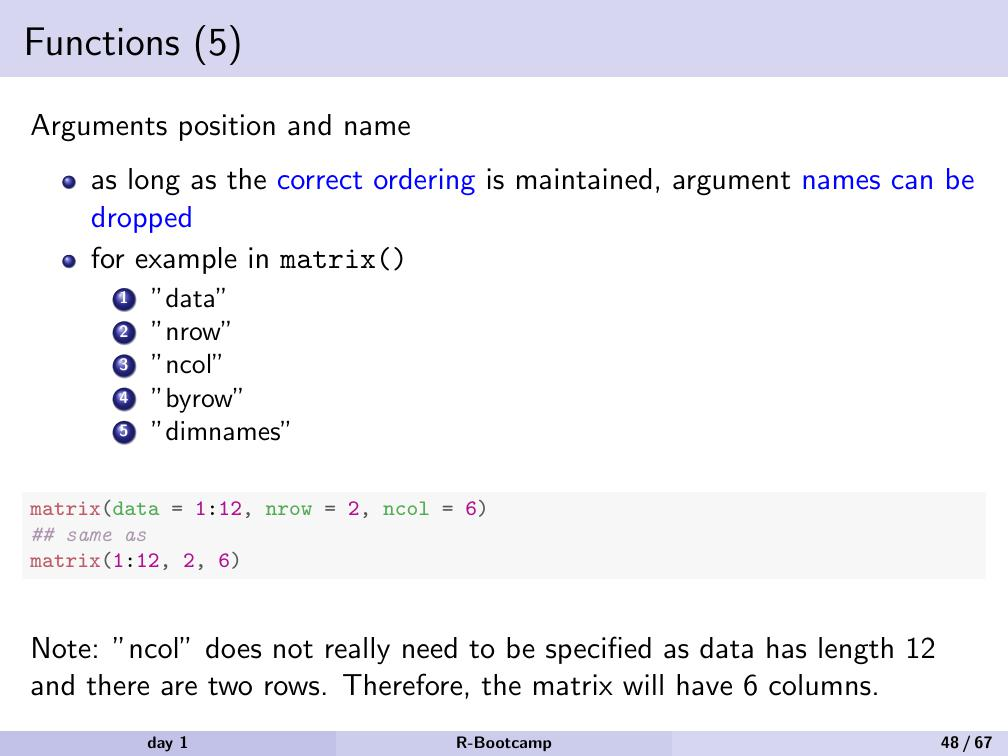Title: (19, 17, 251, 70)
